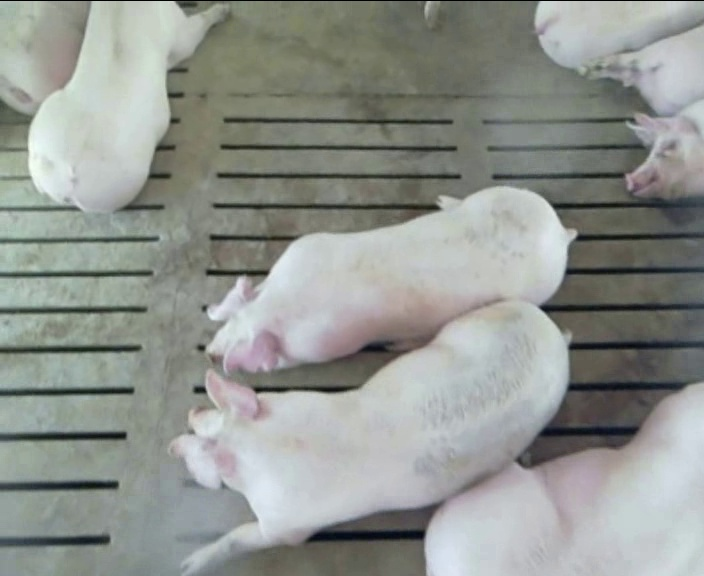pig: (170, 300, 572, 573), (207, 186, 575, 371), (425, 383, 703, 573), (29, 2, 226, 211), (578, 24, 703, 115), (535, 2, 703, 68)
